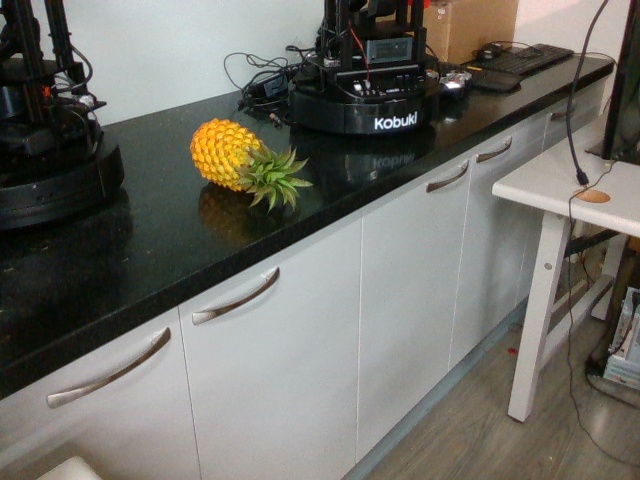pineapple: (179, 114, 314, 214)
